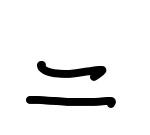eqv: (27, 62, 116, 108)
